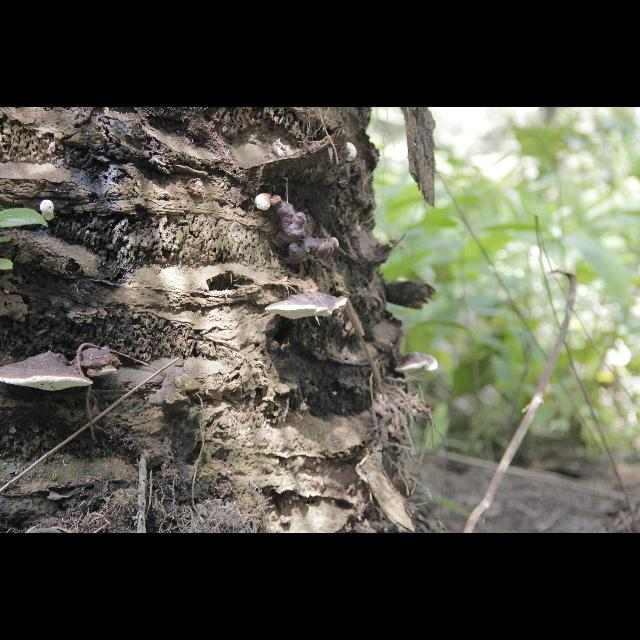ganoderma: (272, 196, 330, 269), (2, 352, 95, 392), (265, 291, 349, 321), (75, 348, 123, 379), (395, 353, 439, 380)
primordium: (40, 200, 56, 222), (256, 193, 273, 211), (348, 143, 359, 163), (332, 238, 340, 251)
